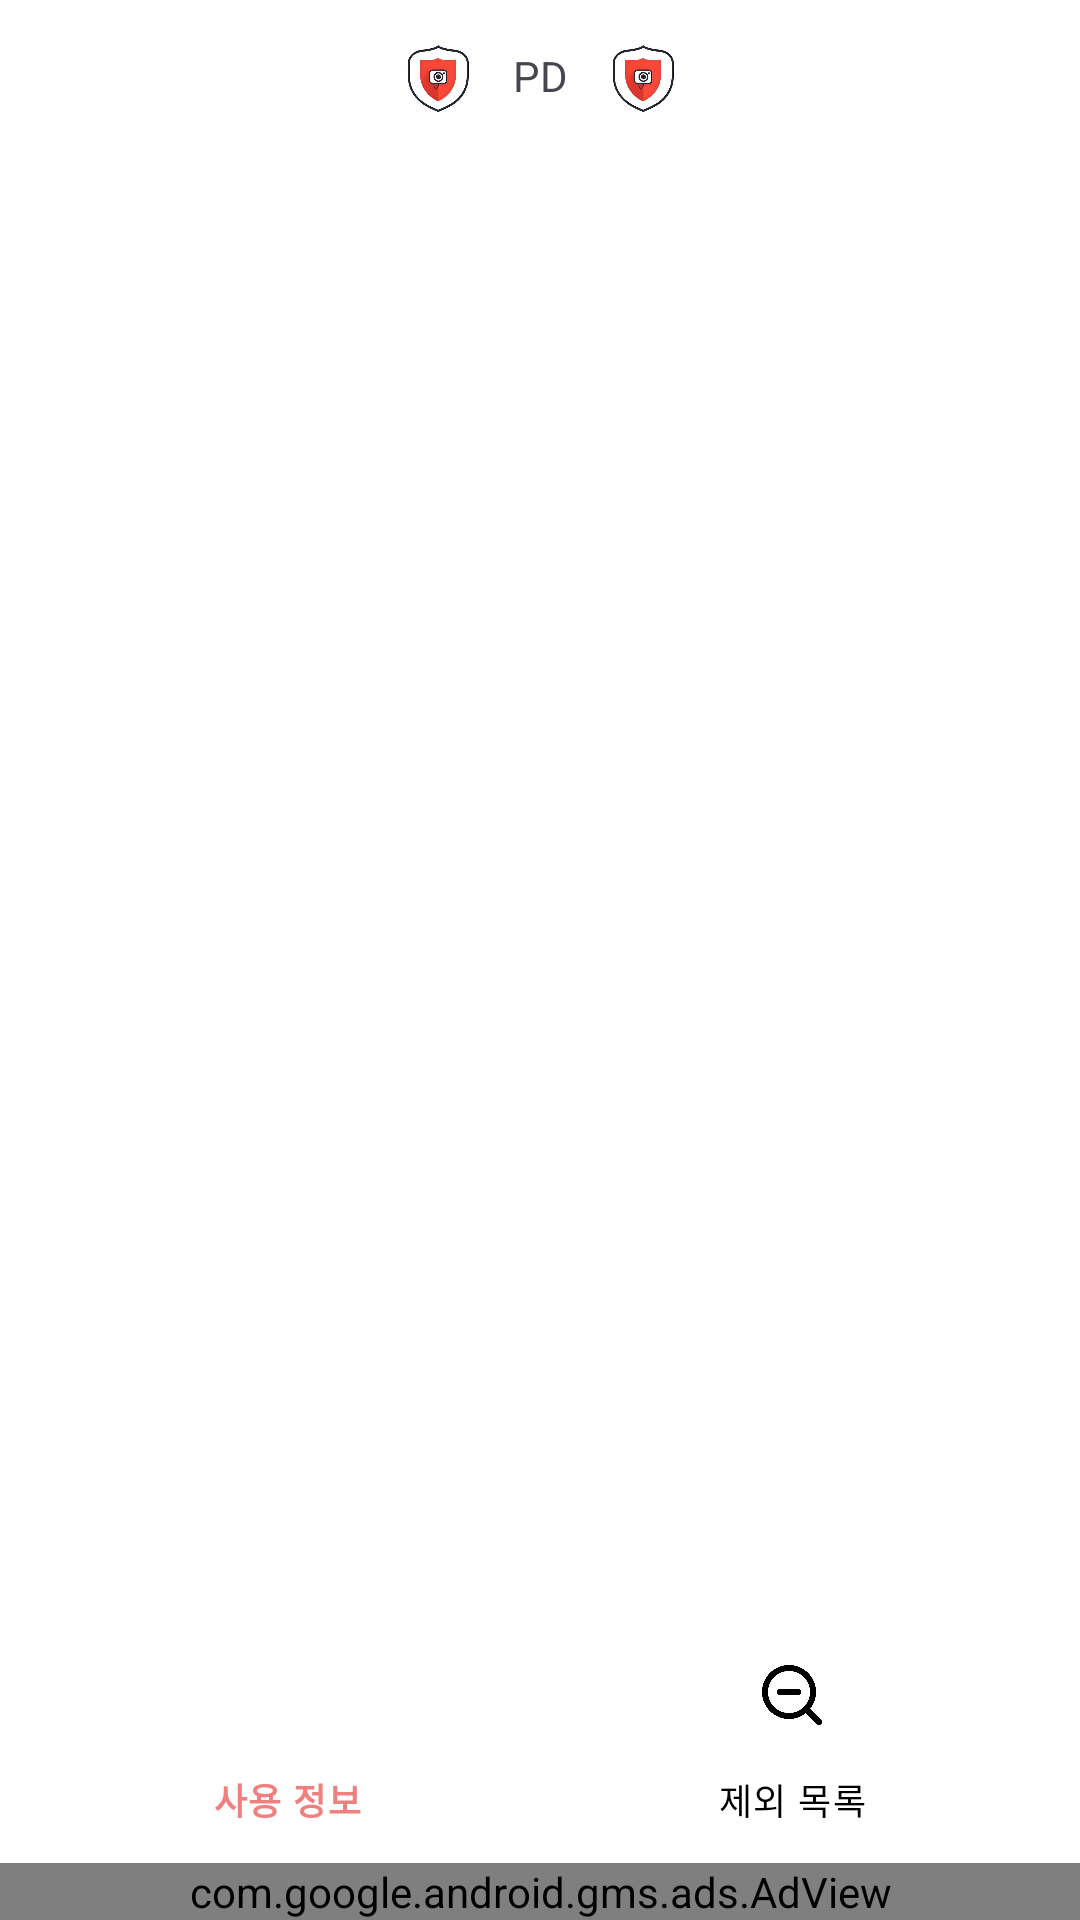

Point at icon controls on the screen. Image size 1080*1920, points as (x=x, y=y).
app: (x=438, y=78), (x=643, y=78)
